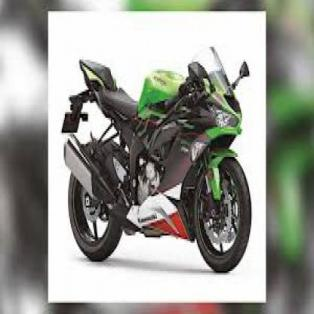Motocicleta: (61, 38, 255, 276)
